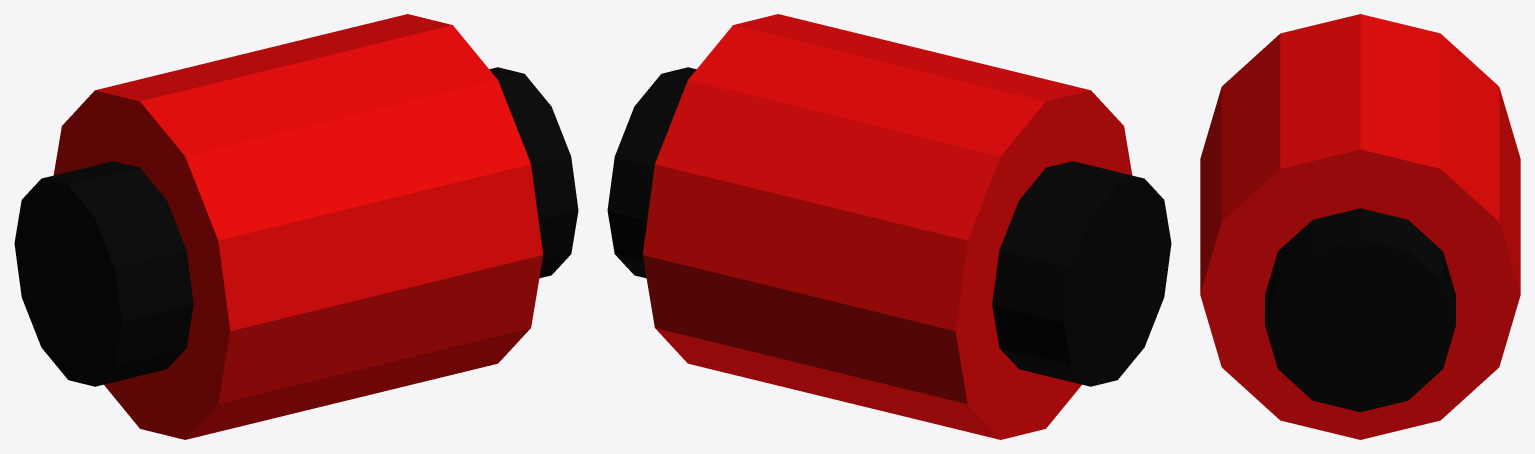
File: Baterry.fbx
3 views of the same model, side by side, from view 1: azimuth 30°, elevation 25°; view 2: azimuth 150°, elevation 25°; view 3: azimuth 270°, elevation 25° (orthographic). The views are drawn at different scales.
Visible parts, largest first — view 1: Cylinder; view 2: Cylinder; view 3: Cylinder.
Boxes of the visible parts, left/top/right/bottom form: Cylinder: left=14, top=14, right=578, bottom=439; Cylinder: left=607, top=14, right=1171, bottom=439; Cylinder: left=1200, top=14, right=1520, bottom=439.
Bounding box in the file's own units: 29.18 × 20 × 20.
